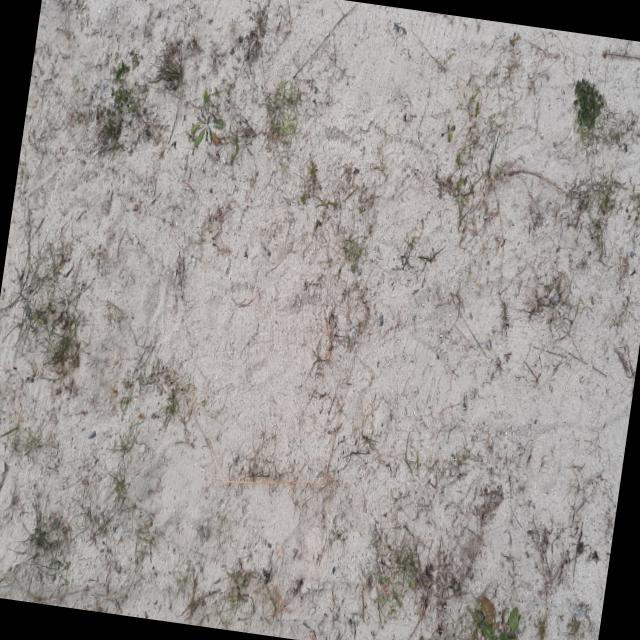grass: (469, 595, 520, 640), (574, 81, 604, 128)
